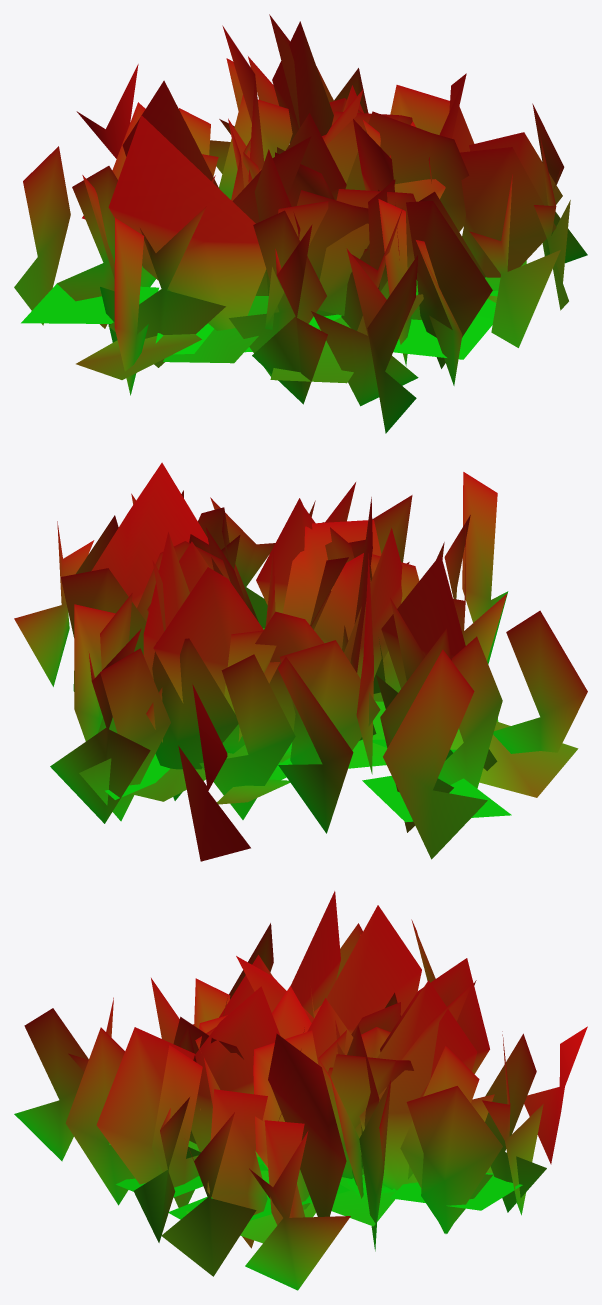
Rendered from Kikuyu Grass_LOD5_Var5_wiljearqx.fbx.
3 views of the same model, one above another, from view 1: azimuth 30°, elevation 25°; view 2: azimuth 150°, elevation 25°; view 3: azimuth 270°, elevation 25° (orthographic). The views are drawn at different scales.
Visible parts, largest first — view 1: _80i9_Var5_LOD5; view 2: _80i9_Var5_LOD5; view 3: _80i9_Var5_LOD5.
Boxes of the visible parts, <box> form: _80i9_Var5_LOD5: <box>14,14,587,433</box>; _80i9_Var5_LOD5: <box>14,462,587,861</box>; _80i9_Var5_LOD5: <box>14,891,587,1290</box>.
Size of the model in its own units: 71.25 by 34 by 75.93.
